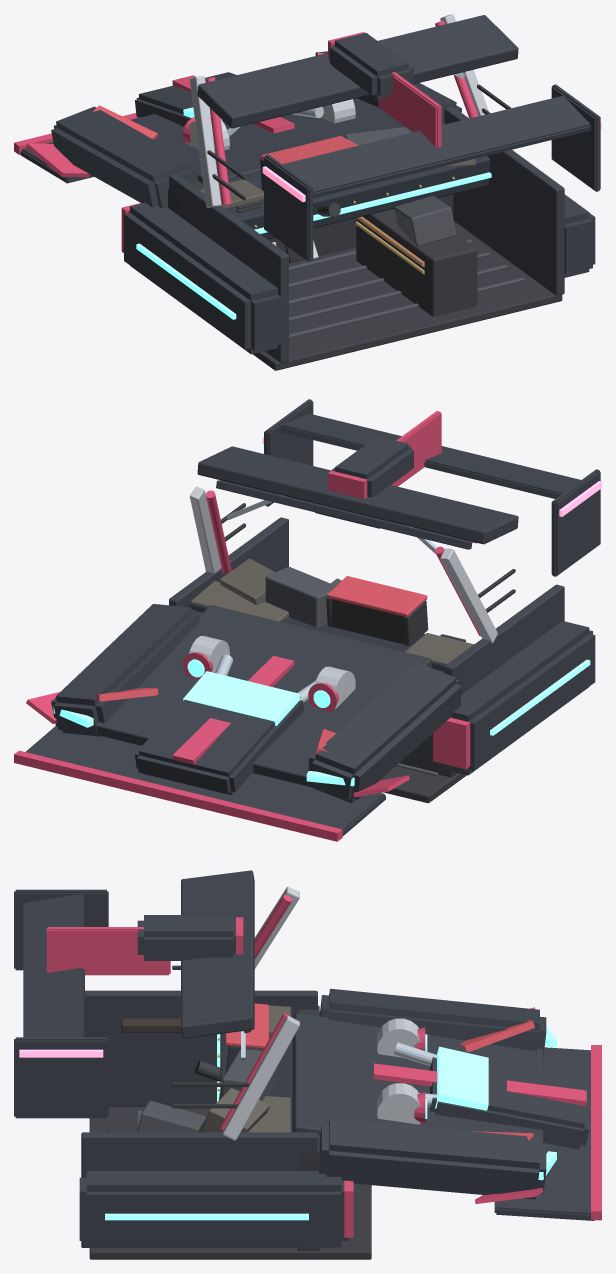
File: cockpit_turbo_proto.glb
3 renders of one model, top to bottom at view 1: azimuth 30°, elevation 25°; view 2: azimuth 150°, elevation 25°; view 3: azimuth 270°, elevation 25°, orthographic. The views are drawn at different scales.
Visible parts, largest first — view 1: FloorPan, RoofHeader, TP_Sidepod_L, TP_RearWingBlade, RightDoorArmor, TP_AeroFender_L, TransmissionTunnel, ExteriorHood, LeftDoorArmor, DashMainDeck, TP_RearWingEndplate_L, TP_RoofSnorkel (+23 smaller); view 2: ExteriorHood, TP_Sidepod_L, TP_AeroFender_L, RoofHeader, TP_FrontSplitter, TP_NoseCone, TP_AeroFender_R, TP_RearWingBlade, TP_SplitterLip, LeftDoorArmor, TP_RearWingEndplate_L, TP_Intercooler (+24 smaller); view 3: TP_Sidepod_R, TP_AeroFender_R, ExteriorHood, LeftDoorArmor, RoofHeader, RightDoorArmor, TP_AeroFender_L, TP_RearWingEndplate_R, TP_RearWingBlade, TP_NoseCone, FloorPan, TP_FrontSplitter (+26 smaller).
Part boxes in pixels (x1=…): FloorPan: x1=252, y1=223, x2=562, y2=370; RoofHeader: x1=197, y1=15, x2=518, y2=128; TP_Sidepod_L: x1=124, y1=202, x2=281, y2=354; TP_RearWingBlade: x1=282, y1=96, x2=590, y2=197; RightDoorArmor: x1=444, y1=106, x2=564, y2=295; TP_AeroFender_L: x1=51, y1=106, x2=199, y2=208; TransmissionTunnel: x1=356, y1=209, x2=477, y2=316; ExteriorHood: x1=130, y1=98, x2=404, y2=184; LeftDoorArmor: x1=169, y1=173, x2=288, y2=362; DashMainDeck: x1=226, y1=156, x2=489, y2=239; TP_RearWingEndplate_L: x1=264, y1=154, x2=313, y2=261; TP_RoofSnorkel: x1=329, y1=33, x2=413, y2=99; ExteriorHood: x1=94, y1=605, x2=432, y2=787; TP_Sidepod_L: x1=438, y1=621, x2=595, y2=775; TP_AeroFender_L: x1=308, y1=663, x2=461, y2=802; RoofHeader: x1=197, y1=446, x2=518, y2=544; TP_FrontSplitter: x1=26, y1=726, x2=385, y2=836; TP_NoseCone: x1=135, y1=697, x2=304, y2=795; TP_AeroFender_R: x1=51, y1=604, x2=199, y2=736; TP_RearWingBlade: x1=280, y1=413, x2=580, y2=498; TP_SplitterLip: x1=14, y1=750, x2=342, y2=841; LeftDoorArmor: x1=444, y1=584, x2=564, y2=694; TP_RearWingEndplate_L: x1=551, y1=469, x2=600, y2=576; TP_Intercooler: x1=183, y1=671, x2=300, y2=725; TP_Sidepod_R: x1=79, y1=1171, x2=348, y2=1247; TP_AeroFender_R: x1=319, y1=1119, x2=546, y2=1199; ExteriorHood: x1=293, y1=1013, x2=543, y2=1143; LeftDoorArmor: x1=85, y1=990, x2=317, y2=1106; RoofHeader: x1=181, y1=870, x2=254, y2=1038; RightDoorArmor: x1=81, y1=1132, x2=317, y2=1247; TP_AeroFender_L: x1=319, y1=988, x2=546, y2=1057; TP_RearWingEndplate_R: x1=14, y1=1037, x2=108, y2=1118; TP_RearWingBlade: x1=23, y1=893, x2=84, y2=1037; TP_NoseCone: x1=430, y1=1053, x2=589, y2=1149; FloorPan: x1=89, y1=1106, x2=371, y2=1259; TP_FrontSplitter: x1=494, y1=1047, x2=594, y2=1220.
Size of the model in its own units: 2.42 by 1.6 by 3.23.
